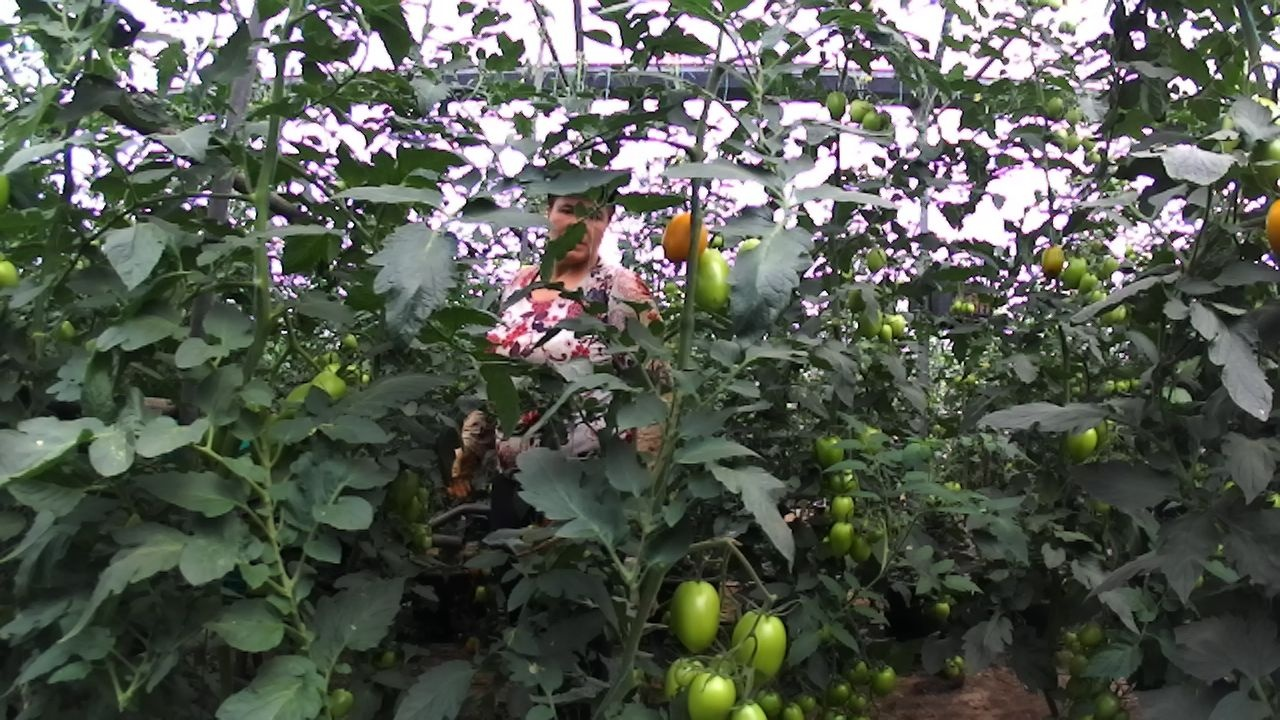tomato: (725, 603, 799, 694), (663, 571, 728, 662), (679, 239, 742, 316), (656, 207, 714, 267), (683, 664, 740, 720), (306, 367, 352, 413), (1061, 420, 1107, 464), (810, 430, 850, 472), (1086, 685, 1129, 720), (321, 682, 359, 720), (867, 659, 902, 698), (825, 519, 857, 561), (1060, 252, 1092, 291), (826, 492, 859, 527), (1075, 617, 1109, 650), (823, 673, 855, 707), (1038, 242, 1067, 279), (753, 683, 786, 715), (822, 87, 851, 123), (0, 252, 24, 295), (840, 654, 872, 686), (844, 94, 876, 124), (863, 243, 890, 277), (928, 595, 957, 626), (885, 309, 909, 338), (1075, 269, 1099, 296), (861, 108, 882, 134), (876, 320, 895, 347)
